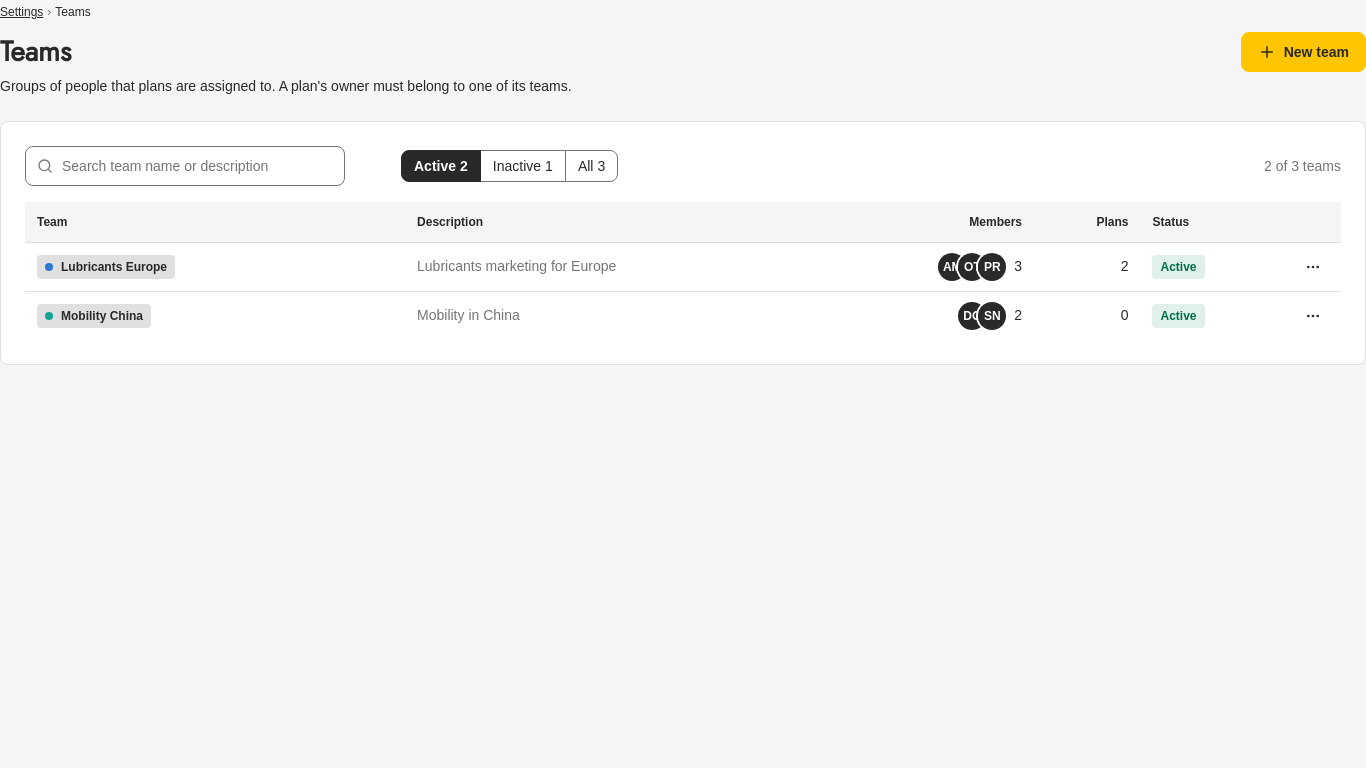
Scenario: TeamsPage (feature 003, US2): Delete, Set team inactive and Reactivate › deletes an unused team, and Undo brings it back (US2-7)
The width and height of the screenshot is (1366, 768).
Click the button named "Actions for Mobility China": (1313, 316) [1297,300,1329,332]
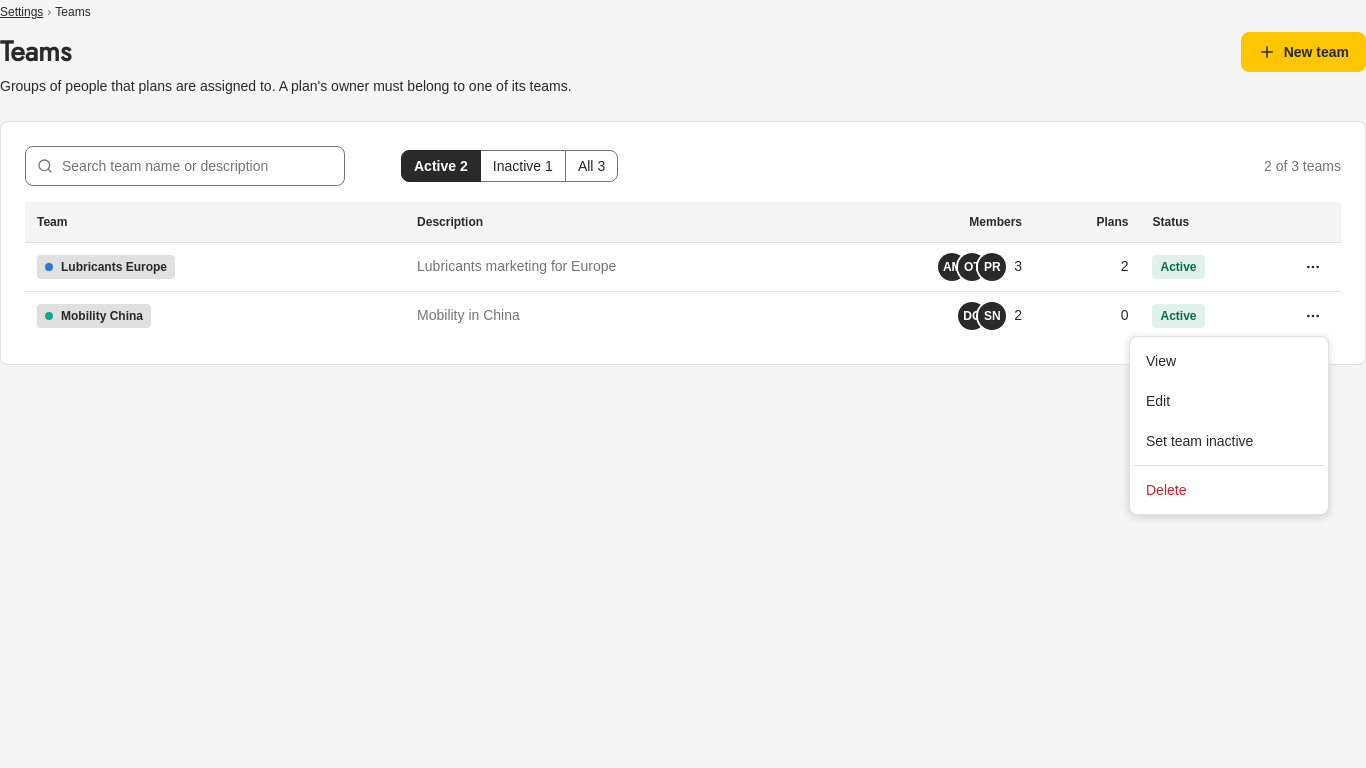
Click the menu item "Delete": (1166, 490) [1146,482,1186,498]
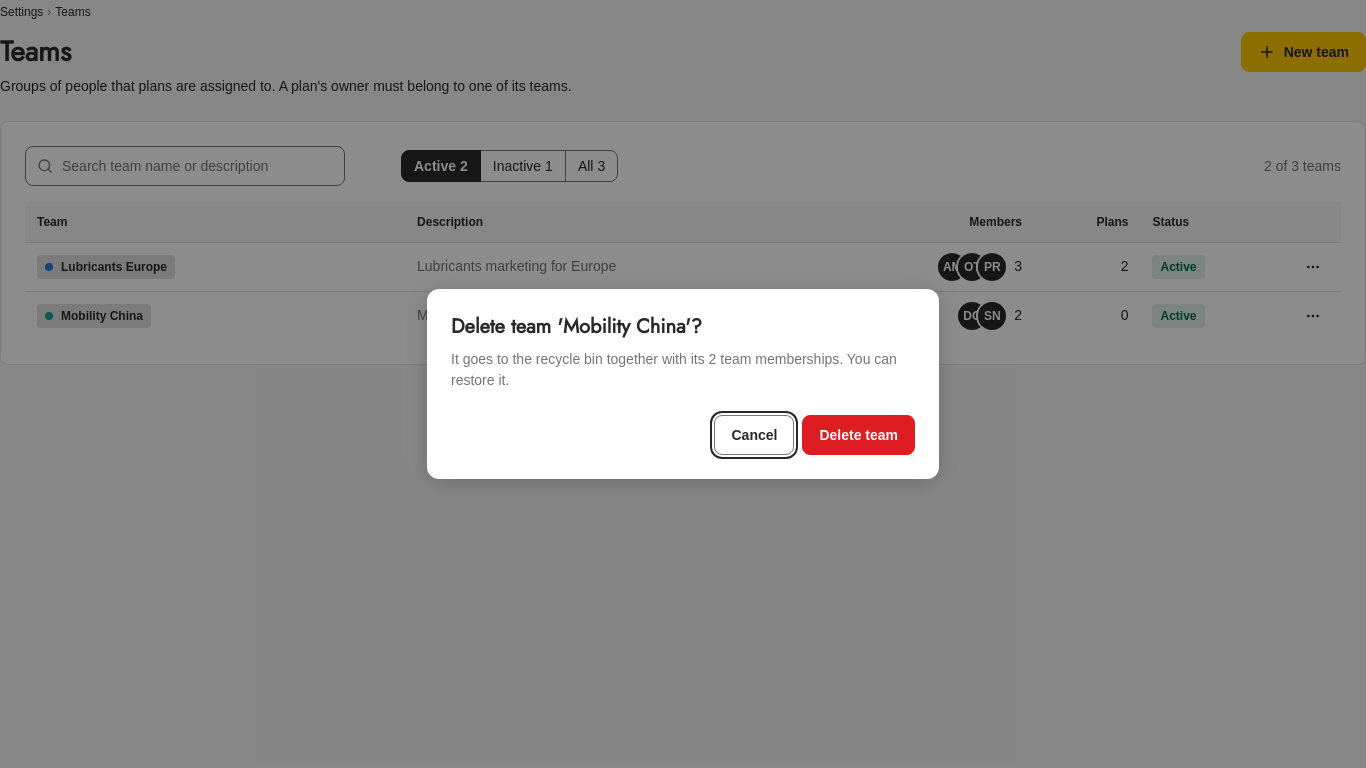
Expected: the dialog "Delete team 'Mobility China'?" shows "It goes to the recycle bin together with its 2 team memberships. You can restore it.", [451,351,897,388]
Click the button "Delete team": (859, 435) [802,415,915,455]
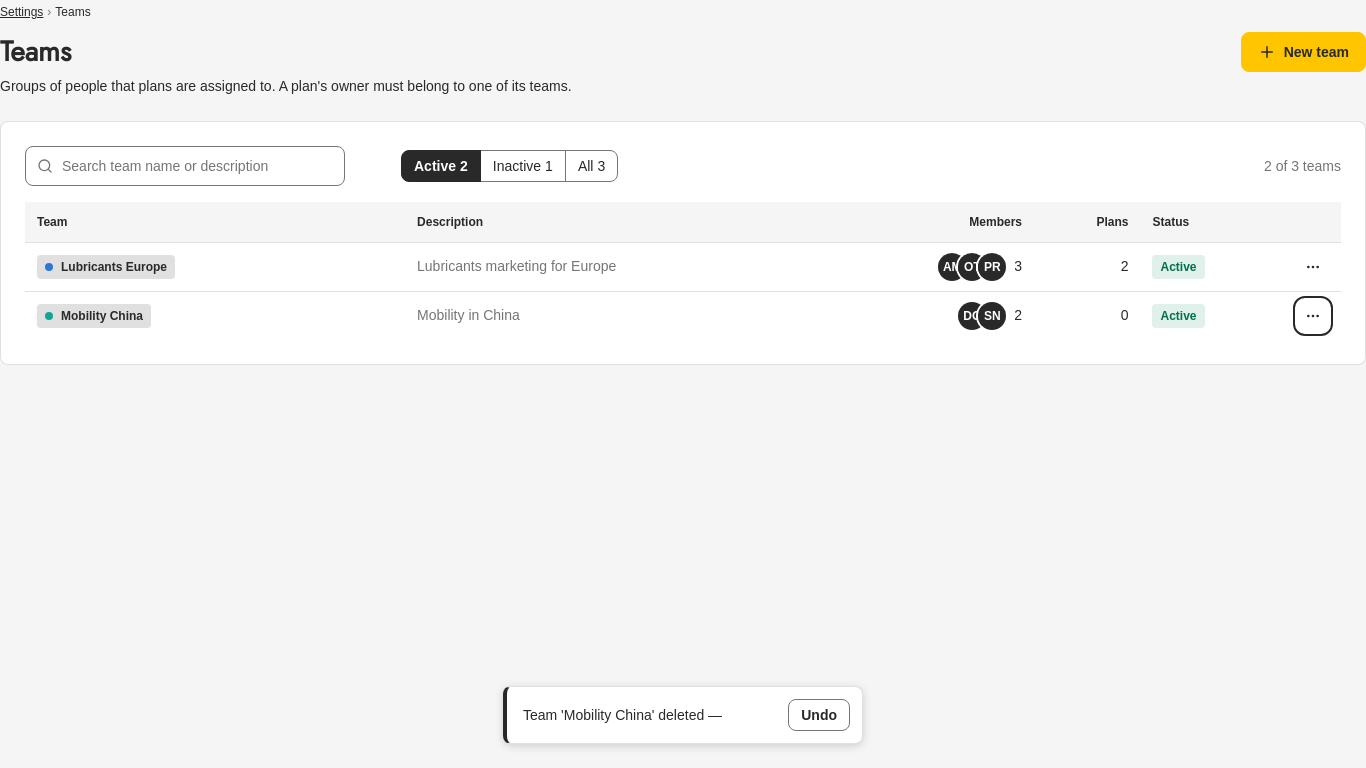
Expected: the text "Team 'Mobility China' deleted" is shown, [523,706,708,722]
Click the button "Undo": (819, 715) [788,699,850,731]
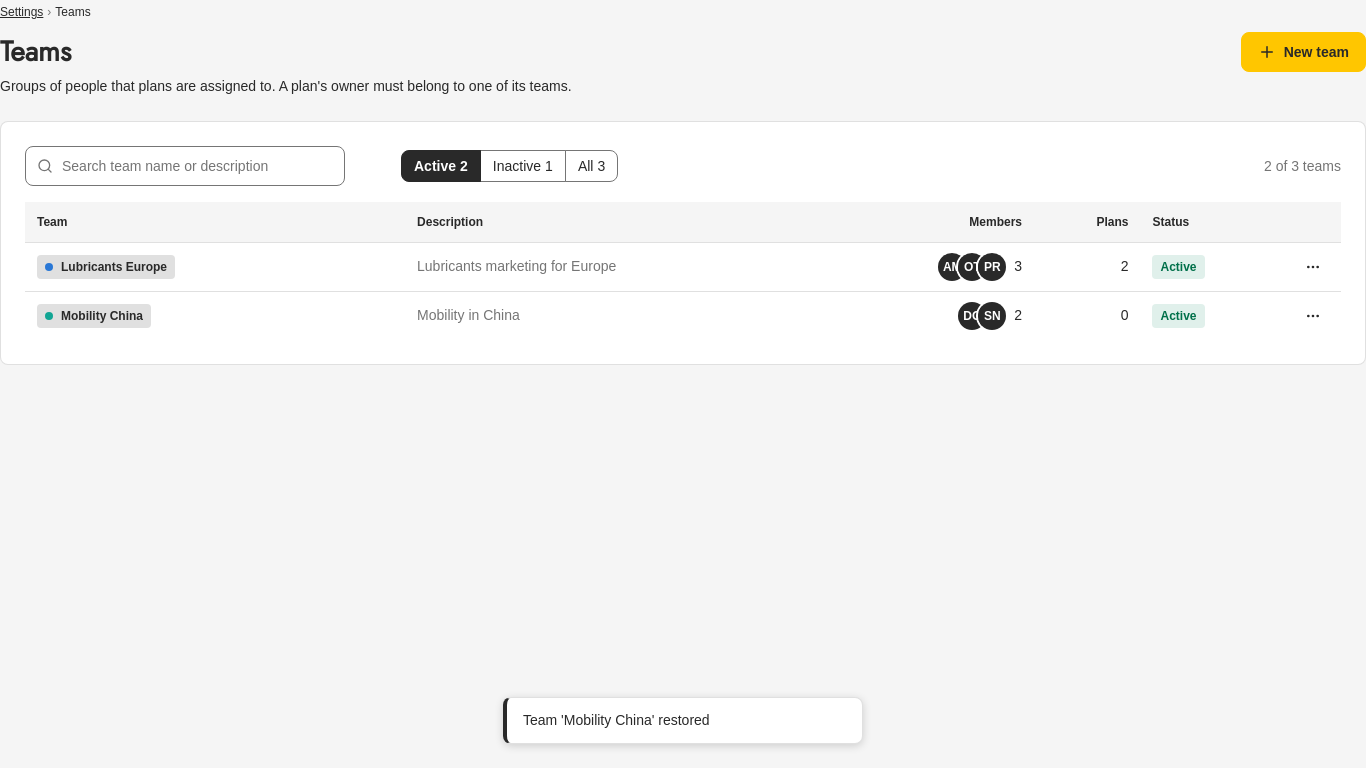
Expected: the text "Team 'Mobility China' restored" is shown, [523,712,710,728]
